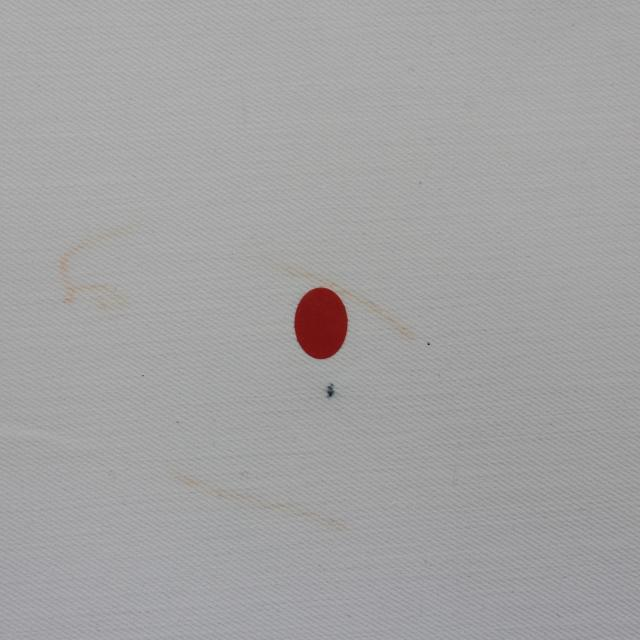stain: (295, 264, 358, 360), (320, 383, 351, 420)
